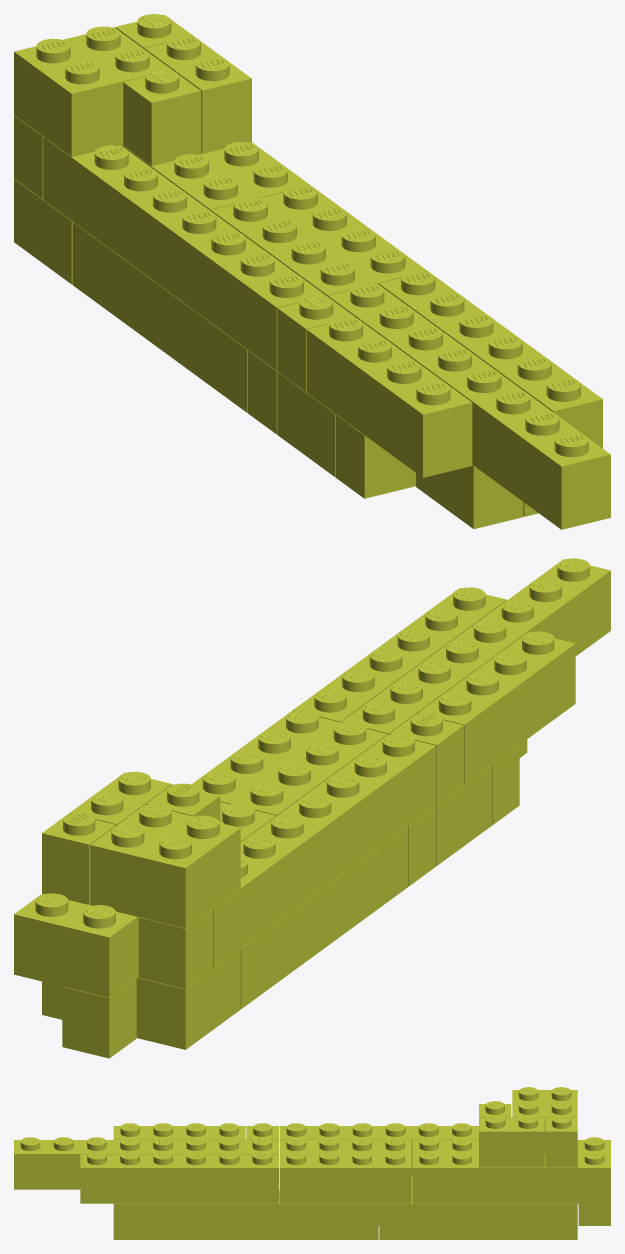
The model's file is fullpipeline_00bb78de_2_ship_widedeck_seed8.glb.
3 views of the same model, one above another, from view 1: azimuth 30°, elevation 25°; view 2: azimuth 150°, elevation 25°; view 3: azimuth 270°, elevation 25° (orthographic). The views are drawn at different scales.
Parts seen in each view (by area): view 1: 00015_3008.DAT, 00013_3008.DAT, 00017_3010.DAT, 00021_3003.DAT, 00012_3001.DAT, 00006_2456.DAT, 00010_3009.DAT, 00020_3005.DAT, 00019_3004.DAT, 00011_2456.DAT, 00004_3004.DAT, 00009_3004.DAT (+6 smaller); view 2: 00015_3008.DAT, 00021_3003.DAT, 00013_3008.DAT, 00017_3010.DAT, 00011_2456.DAT, 00012_3001.DAT, 00006_2456.DAT, 00010_3009.DAT, 00005_3003.DAT, 00014_3005.DAT, 00003_3005.DAT, 00018_3005.DAT (+7 smaller); view 3: 00011_2456.DAT, 00010_3009.DAT, 00002_3008.DAT, 00012_3001.DAT, 00001_3009.DAT, 00013_3008.DAT, 00019_3004.DAT, 00015_3008.DAT, 00021_3003.DAT, 00017_3010.DAT, 00018_3005.DAT, 00003_3005.DAT (+2 smaller).
Part boxes in pixels (x1=…): 00015_3008.DAT: x1=43, y1=136, x2=325, y2=370; 00013_3008.DAT: x1=328, y1=283, x2=610, y2=529; 00017_3010.DAT: x1=306, y1=317, x2=472, y2=477; 00021_3003.DAT: x1=14, y1=26, x2=171, y2=156; 00012_3001.DAT: x1=211, y1=185, x2=427, y2=296; 00006_2456.DAT: x1=72, y1=222, x2=247, y2=412; 00010_3009.DAT: x1=379, y1=270, x2=602, y2=448; 00020_3005.DAT: x1=123, y1=69, x2=201, y2=165; 00019_3004.DAT: x1=144, y1=35, x2=251, y2=153; 00011_2456.DAT: x1=121, y1=142, x2=310, y2=210; 00004_3004.DAT: x1=416, y1=465, x2=523, y2=528; 00009_3004.DAT: x1=336, y1=414, x2=415, y2=498; 00015_3008.DAT: x1=213, y1=733, x2=435, y2=968; 00021_3003.DAT: x1=90, y1=804, x2=240, y2=928; 00013_3008.DAT: x1=341, y1=558, x2=610, y2=734; 00017_3010.DAT: x1=417, y1=631, x2=575, y2=784; 00011_2456.DAT: x1=14, y1=802, x2=276, y2=997; 00012_3001.DAT: x1=191, y1=710, x2=387, y2=816; 00006_2456.DAT: x1=240, y1=827, x2=408, y2=1008; 00010_3009.DAT: x1=293, y1=587, x2=506, y2=722; 00005_3003.DAT: x1=136, y1=949, x2=240, y2=1049; 00014_3005.DAT: x1=138, y1=909, x2=212, y2=989; 00003_3005.DAT: x1=62, y1=978, x2=136, y2=1058; 00018_3005.DAT: x1=42, y1=812, x2=116, y2=904; 00011_2456.DAT: x1=412, y1=1137, x2=610, y2=1203; 00010_3009.DAT: x1=80, y1=1151, x2=278, y2=1203; 00002_3008.DAT: x1=113, y1=1190, x2=378, y2=1239; 00012_3001.DAT: x1=279, y1=1137, x2=411, y2=1203; 00001_3009.DAT: x1=379, y1=1190, x2=577, y2=1239; 00013_3008.DAT: x1=14, y1=1137, x2=278, y2=1189; 00019_3004.DAT: x1=479, y1=1115, x2=544, y2=1167; 00015_3008.DAT: x1=279, y1=1123, x2=478, y2=1175; 00021_3003.DAT: x1=512, y1=1087, x2=577, y2=1153; 00017_3010.DAT: x1=113, y1=1123, x2=245, y2=1139; 00018_3005.DAT: x1=545, y1=1115, x2=577, y2=1167; 00003_3005.DAT: x1=578, y1=1203, x2=610, y2=1225.
Bounding box in the file's own units: 0.0238 × 0.0303 × 0.1438.
